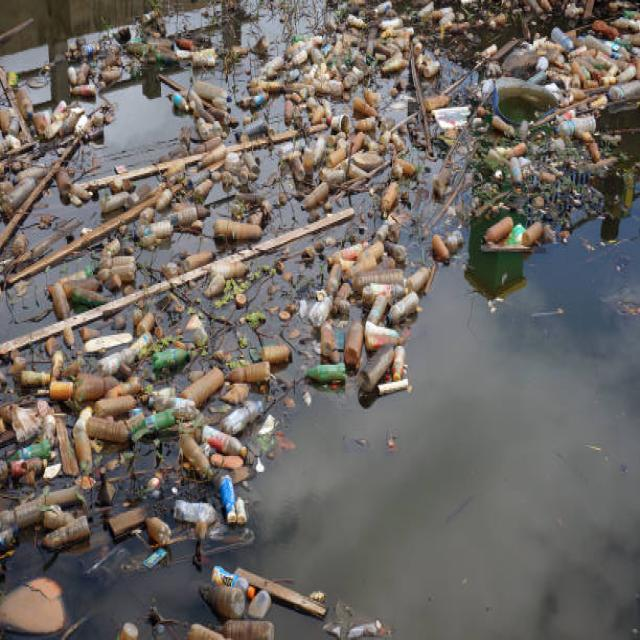garbage: (0, 275, 270, 557), (346, 0, 640, 245), (0, 67, 293, 236), (8, 572, 328, 640)
